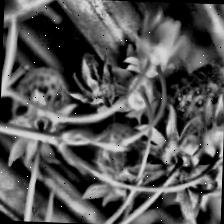Gray Mold: (63, 50, 118, 112)
